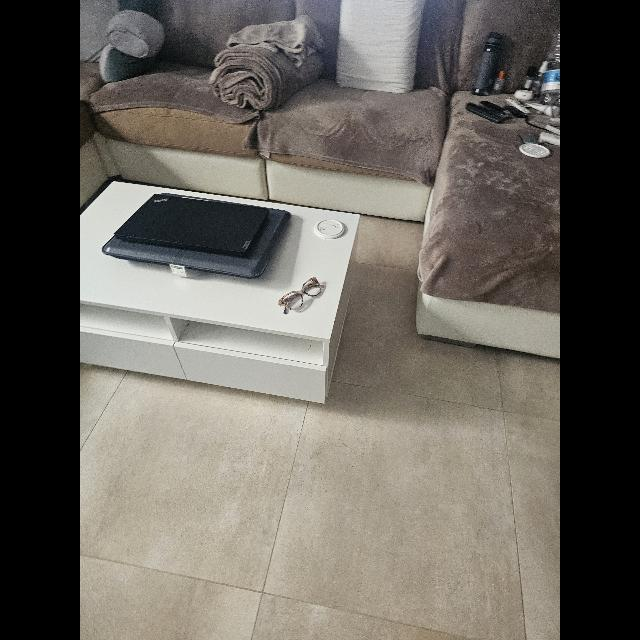glasses: (278, 278, 324, 314)
